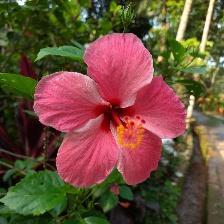hibiscus: (34, 33, 190, 191)
